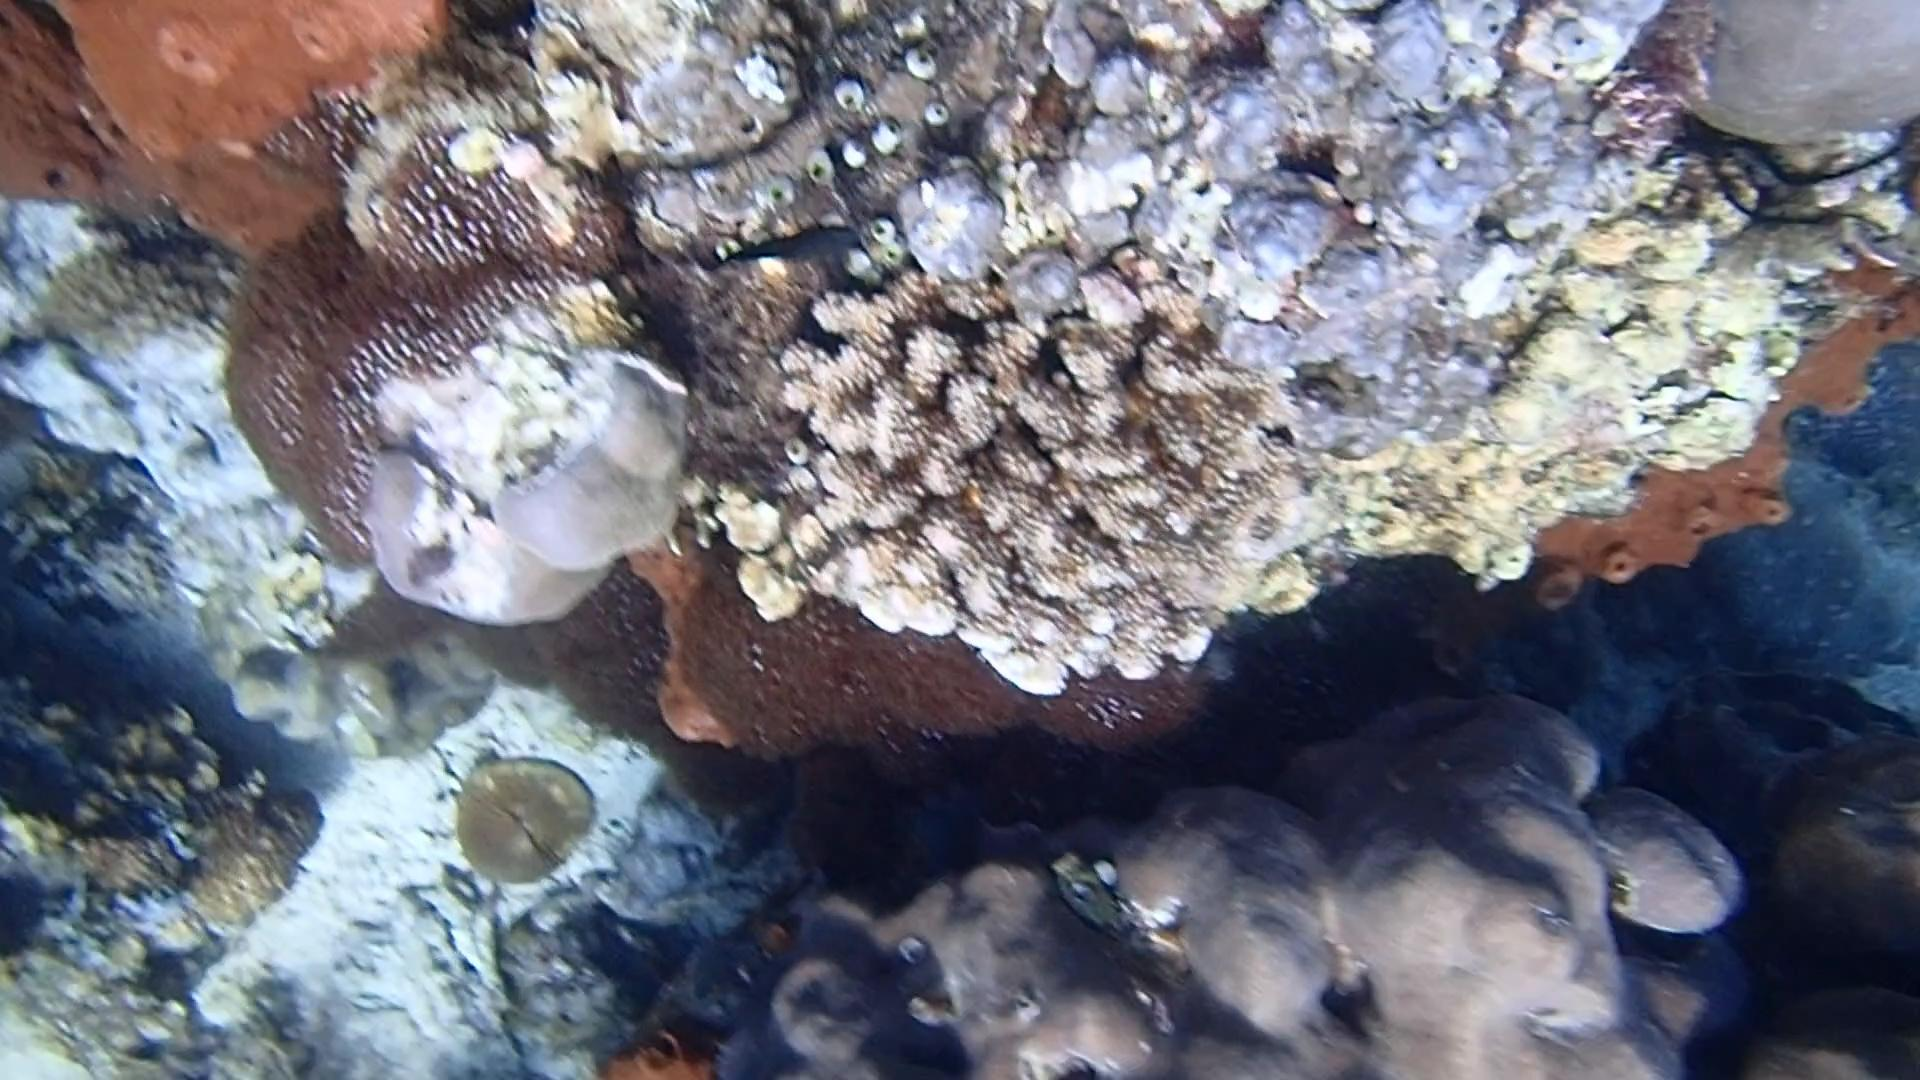Dark Fish: (712, 207, 876, 289)
